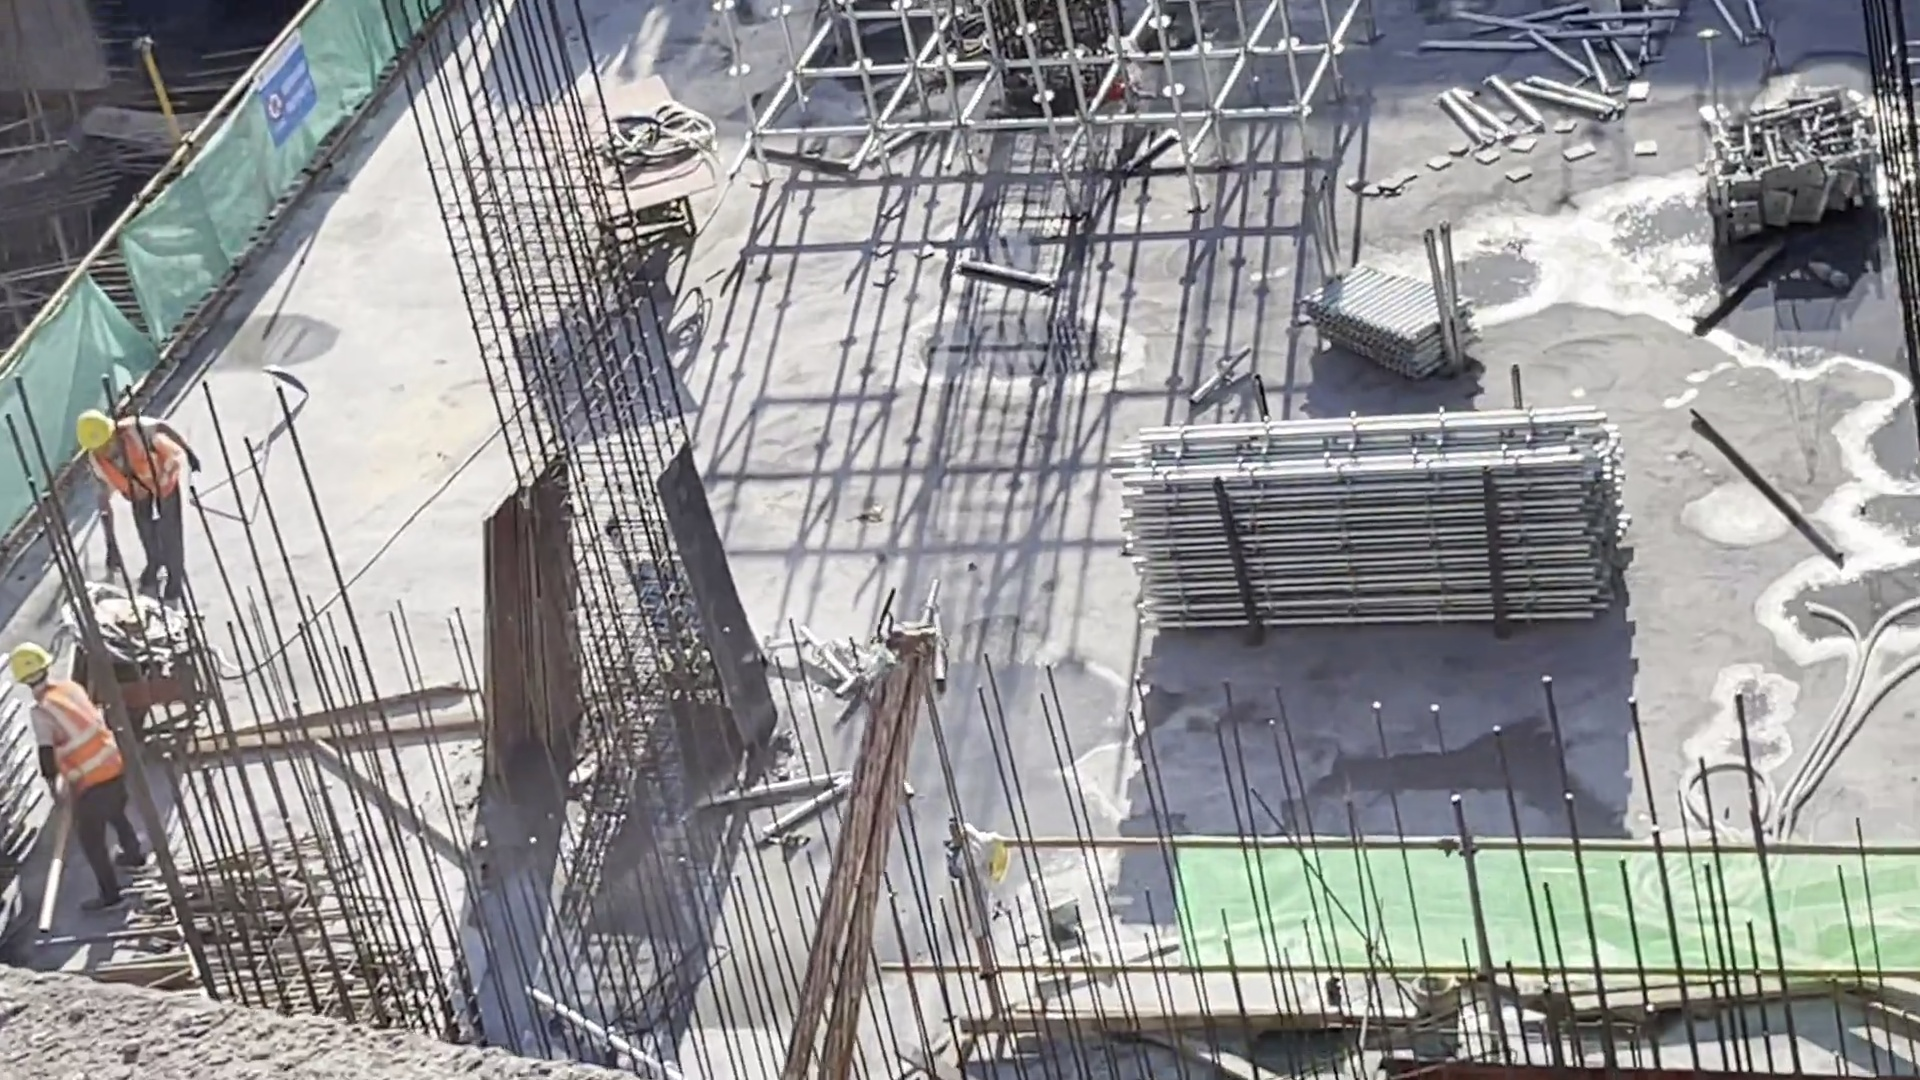cutter: (565, 94, 718, 257), (71, 588, 191, 703)
helmet: (78, 411, 117, 448), (7, 650, 47, 680)
person: (4, 641, 147, 911), (70, 401, 205, 613)
scaffold: (1111, 426, 1617, 615), (1297, 268, 1469, 367), (1, 667, 33, 908)
slogan: (255, 68, 320, 140)
vest: (31, 695, 116, 784), (92, 435, 181, 491)
